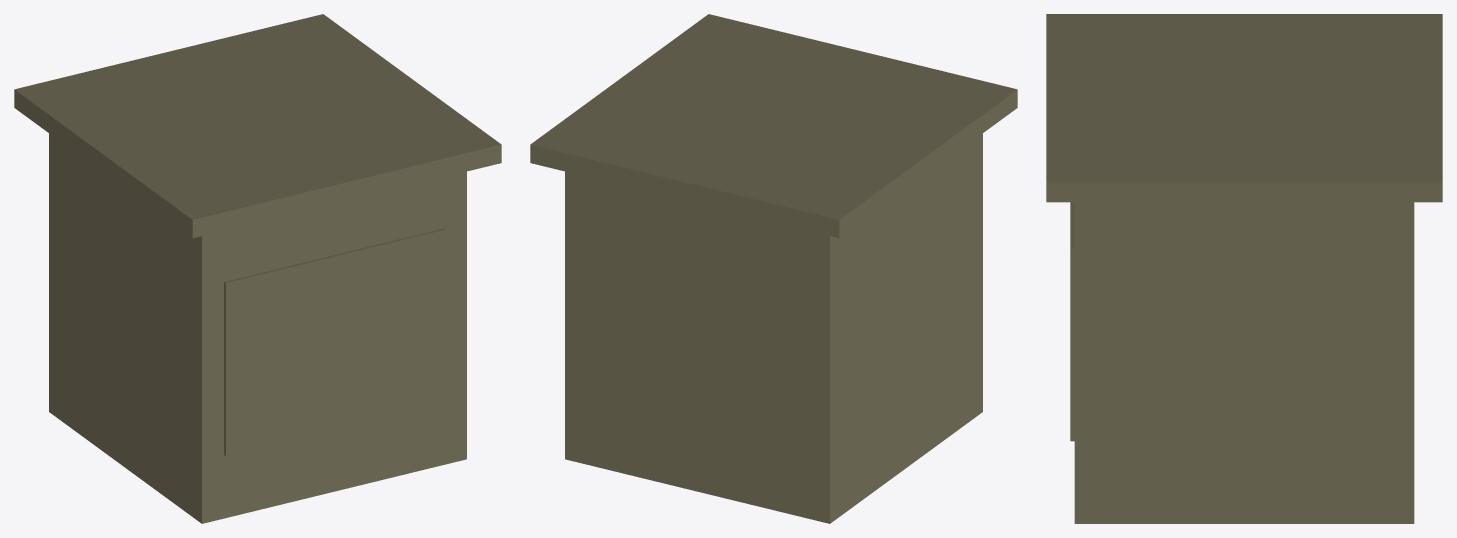
Rendered from SM_Quiosco_v4_Quemado_LOD1.fbx.
3 renders of one model, left to right at view 1: azimuth 30°, elevation 25°; view 2: azimuth 150°, elevation 25°; view 3: azimuth 270°, elevation 25°, orthographic. The views are drawn at different scales.
Visible parts, largest first — view 1: SM_urbano_extra_v14_LOD1; view 2: SM_urbano_extra_v14_LOD1; view 3: SM_urbano_extra_v14_LOD1.
Boxes of the visible parts, box(x1,y1,x2,y2) form: SM_urbano_extra_v14_LOD1: box(14, 14, 501, 523); SM_urbano_extra_v14_LOD1: box(530, 14, 1017, 523); SM_urbano_extra_v14_LOD1: box(1046, 14, 1442, 523).
Size of the model in its own units: 2.8 by 2.76 by 2.8.
